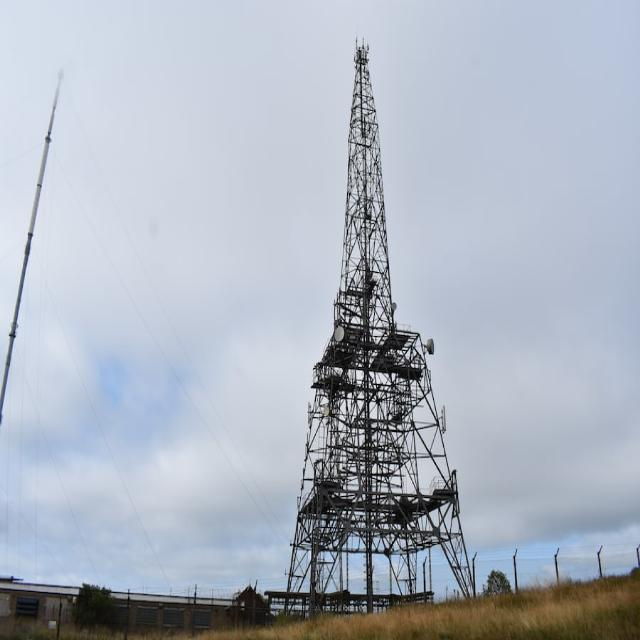transmission tower: (261, 11, 511, 550)
